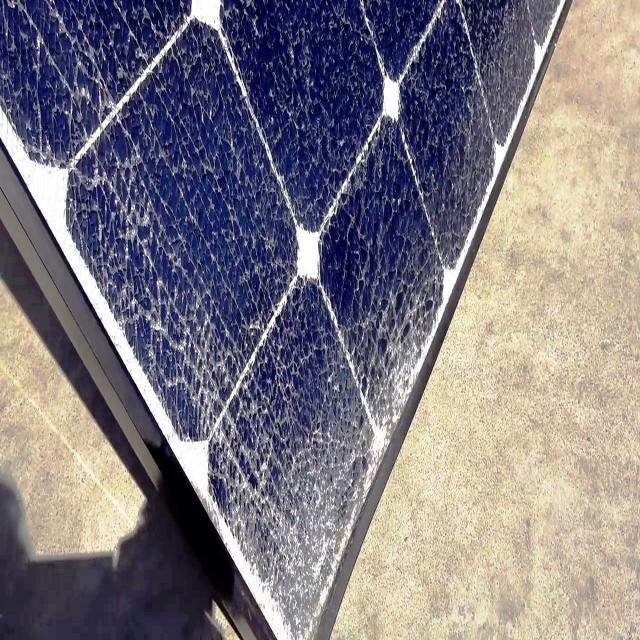faulty: (0, 2, 574, 640)
